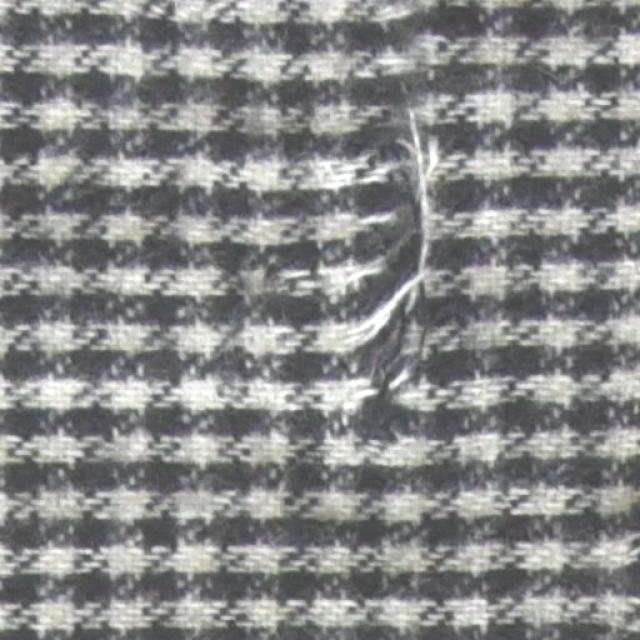Snag: (305, 1, 456, 458)
